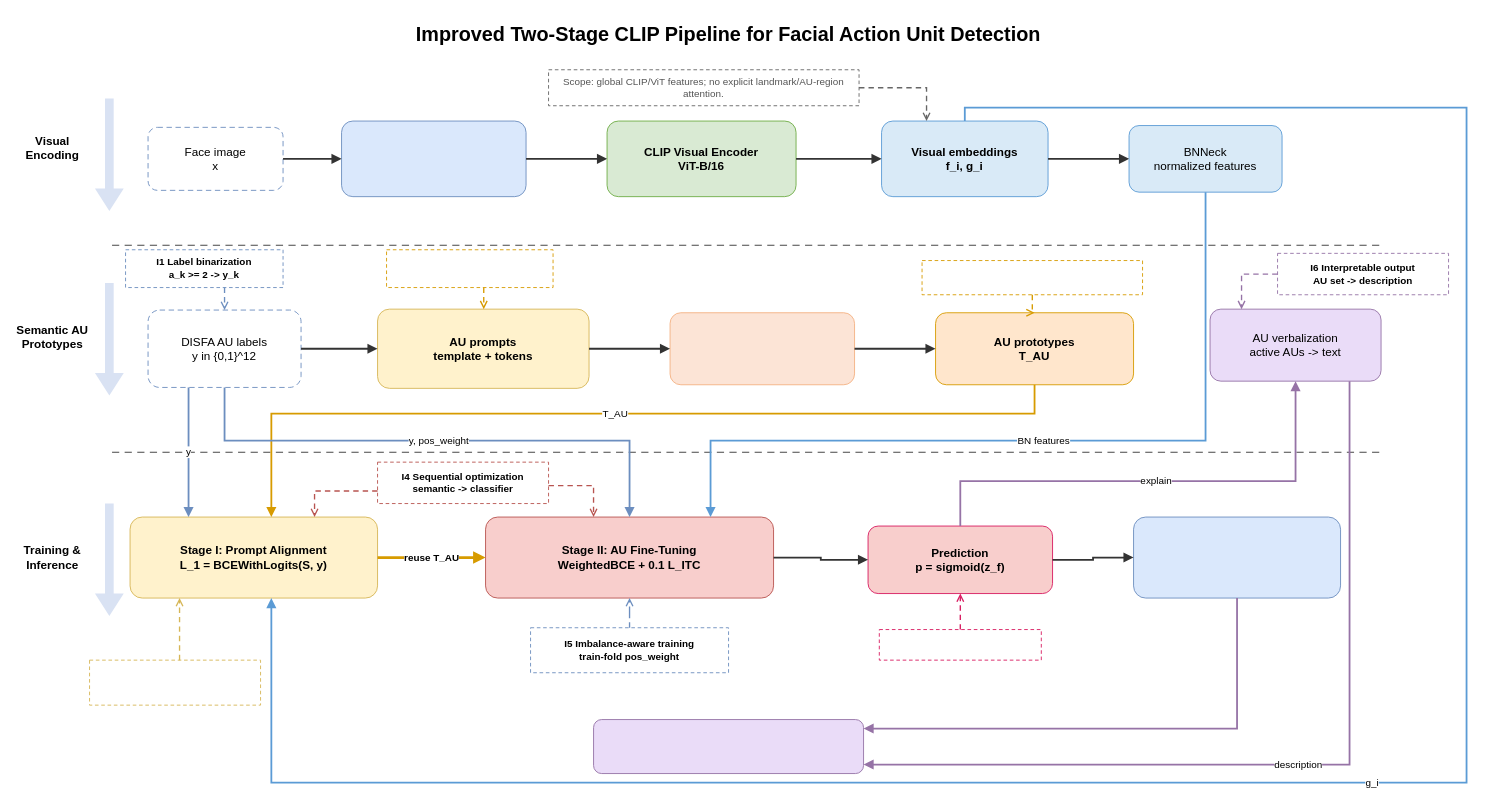
This 1490x806 diagram has some shape labels left out. Each missing label, with the centre of its shape:
"CLIP Text Encoder frozen" goes at pixel 762 348.
"Evaluation F1, ROC-AUC, DISFA-8" goes at pixel 1237 557.
"Final output probabilities, AU set, description" goes at pixel 728 746.
"I2 Learned prompts not fixed descriptors" goes at pixel 469 268.
"I3 Multi-label ITC one image, multiple AUs" goes at pixel 175 682.
"Preprocessing 224 x 224, light aug" goes at pixel 433 158.
"Stage II freezes prompt_learner and text_encoder." goes at pixel 1032 277.
"threshold: p_k > 0.5" goes at pixel 959 644.
